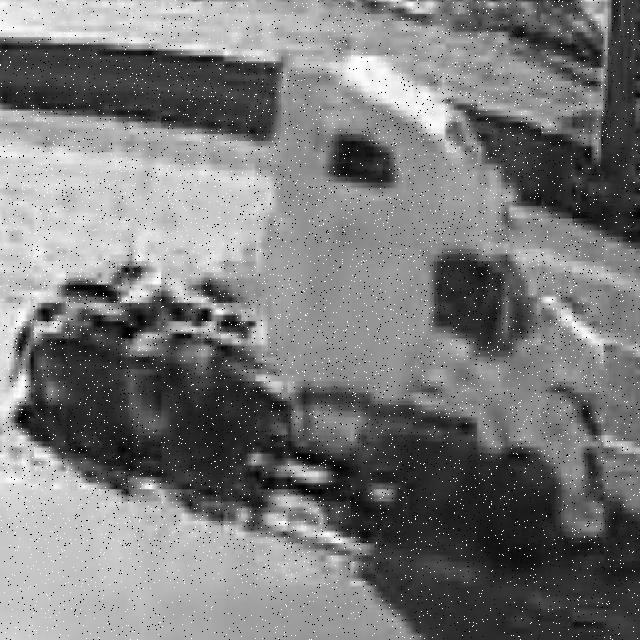Tractor Trailer: (6, 61, 608, 551)
